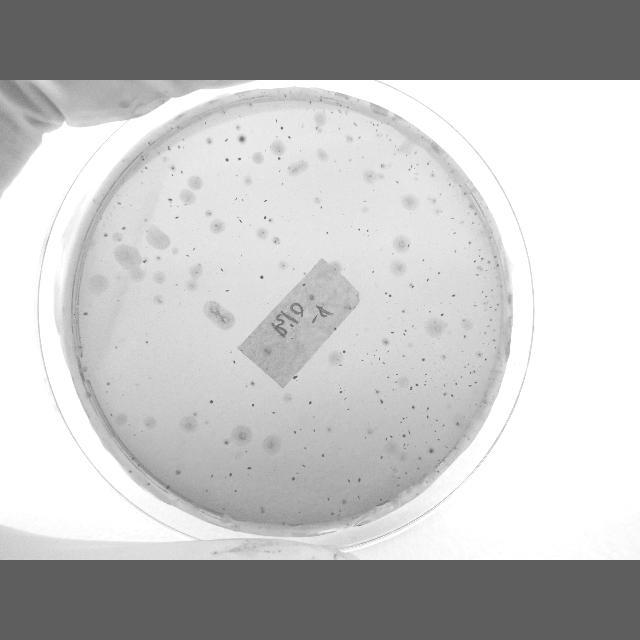colony: (237, 134, 247, 144), (174, 468, 182, 476), (339, 498, 346, 504), (430, 172, 436, 178), (428, 448, 434, 454), (250, 380, 256, 386), (166, 198, 174, 202), (104, 232, 108, 238), (192, 246, 196, 252), (380, 163, 384, 169), (448, 182, 452, 188), (472, 304, 478, 308), (442, 382, 446, 388), (378, 356, 382, 362), (382, 360, 386, 366), (402, 308, 406, 314), (343, 396, 347, 402), (308, 400, 312, 406), (292, 375, 298, 379), (347, 478, 351, 484), (357, 477, 361, 483), (330, 510, 334, 516), (338, 108, 342, 114), (274, 118, 278, 124), (236, 125, 240, 131), (260, 274, 264, 280), (83, 312, 89, 316), (110, 411, 114, 417), (224, 440, 230, 444), (166, 484, 170, 490), (131, 456, 135, 462), (282, 520, 286, 526), (193, 411, 197, 417), (414, 172, 420, 175), (450, 217, 456, 220), (356, 494, 359, 500), (326, 496, 329, 502), (396, 476, 402, 479), (246, 466, 252, 469), (144, 166, 148, 170), (180, 170, 184, 174), (122, 226, 126, 230), (144, 258, 148, 262), (142, 260, 146, 264), (156, 256, 160, 260), (268, 218, 272, 222), (395, 180, 399, 184), (414, 151, 418, 155), (474, 212, 478, 216), (468, 241, 472, 245), (451, 294, 455, 298), (388, 293, 392, 297), (384, 291, 388, 295), (481, 290, 485, 294), (484, 294, 488, 298), (489, 318, 493, 322), (492, 328, 496, 332), (492, 338, 496, 342), (463, 334, 467, 338), (484, 357, 488, 361), (472, 369, 476, 373), (468, 384, 472, 388), (454, 382, 458, 386), (450, 394, 454, 398), (442, 392, 446, 396), (421, 357, 425, 361), (415, 383, 419, 387), (402, 354, 406, 358), (402, 332, 406, 336), (404, 328, 408, 332), (374, 348, 378, 352), (342, 349, 346, 353), (251, 403, 255, 407), (302, 464, 306, 468), (291, 476, 295, 480), (380, 456, 384, 460), (396, 484, 400, 488), (384, 437, 388, 441), (389, 435, 393, 439), (402, 434, 406, 438), (402, 416, 406, 420), (402, 443, 406, 447), (418, 456, 422, 460), (442, 424, 446, 428), (456, 422, 460, 426), (442, 354, 446, 358), (461, 318, 465, 322), (494, 308, 498, 312), (508, 316, 512, 320), (508, 323, 512, 327), (484, 268, 488, 272), (487, 260, 491, 264), (388, 138, 392, 142), (345, 96, 349, 100), (315, 126, 319, 130), (308, 100, 312, 104), (280, 126, 284, 130), (292, 169, 296, 173), (238, 157, 242, 161), (225, 158, 229, 162), (224, 138, 228, 142), (176, 125, 180, 129), (144, 218, 148, 222), (175, 283, 179, 287), (220, 268, 224, 272), (145, 340, 149, 344), (114, 345, 118, 349), (106, 382, 110, 386), (110, 376, 114, 380), (132, 433, 136, 437), (146, 422, 150, 426), (140, 429, 144, 433), (209, 400, 213, 404), (229, 472, 233, 476), (147, 482, 151, 486), (137, 463, 141, 467), (128, 470, 132, 474), (222, 507, 226, 511), (205, 488, 209, 492), (302, 283, 306, 287), (245, 384, 249, 388), (174, 216, 180, 218), (186, 255, 190, 258), (235, 197, 238, 201), (240, 218, 242, 224), (264, 214, 266, 220), (362, 200, 368, 202), (458, 185, 462, 188), (454, 248, 456, 254), (426, 278, 429, 282), (491, 288, 494, 292), (412, 404, 414, 410), (371, 362, 374, 366), (361, 358, 364, 362), (338, 364, 344, 366), (339, 391, 343, 394), (313, 428, 315, 434), (364, 436, 368, 439), (380, 401, 384, 404), (426, 406, 429, 410), (426, 415, 429, 419), (486, 342, 489, 346), (496, 263, 499, 267), (474, 274, 480, 276), (481, 256, 484, 260), (408, 125, 412, 128), (356, 98, 359, 102), (331, 110, 334, 114), (222, 111, 225, 115), (250, 101, 252, 107), (116, 202, 122, 204), (195, 270, 198, 274), (224, 290, 230, 292), (210, 474, 213, 478), (235, 489, 238, 493), (426, 162, 429, 165), (416, 466, 419, 469), (346, 105, 349, 108), (105, 391, 108, 394), (148, 141, 150, 145), (172, 166, 174, 170), (178, 145, 180, 149), (182, 138, 184, 142), (170, 126, 172, 130), (172, 126, 174, 130), (205, 121, 207, 125), (182, 146, 184, 150), (184, 204, 188, 206), (242, 198, 244, 202), (263, 200, 267, 202), (262, 231, 264, 235), (320, 205, 322, 209), (408, 168, 410, 172), (410, 164, 412, 168), (414, 166, 416, 170), (432, 169, 434, 173), (406, 153, 408, 157), (394, 152, 396, 156), (395, 144, 397, 148), (373, 189, 375, 193), (451, 169, 453, 173), (468, 211, 470, 215), (452, 232, 456, 234), (479, 248, 481, 252), (408, 244, 410, 248), (422, 258, 424, 262), (412, 285, 414, 289), (410, 282, 412, 286), (372, 270, 374, 274), (428, 311, 432, 313), (440, 314, 444, 316), (440, 301, 442, 305), (472, 302, 476, 304), (484, 331, 486, 335), (478, 353, 480, 357), (467, 362, 469, 366), (463, 366, 467, 368), (474, 380, 476, 384), (424, 373, 428, 375), (424, 380, 428, 382), (424, 383, 426, 387), (390, 332, 394, 334), (412, 324, 414, 328), (386, 350, 390, 352), (367, 352, 369, 356), (334, 327, 336, 331), (296, 378, 298, 382), (272, 412, 276, 414), (294, 430, 296, 434), (300, 428, 302, 432), (322, 454, 324, 458), (296, 472, 300, 474), (339, 509, 341, 513), (380, 498, 382, 502), (404, 472, 408, 474), (399, 432, 401, 436), (380, 398, 382, 402), (392, 388, 394, 392), (394, 381, 398, 383), (423, 422, 425, 426), (408, 430, 410, 434), (444, 446, 448, 448), (436, 418, 438, 422), (469, 404, 471, 408), (508, 298, 510, 302), (483, 308, 485, 312), (500, 284, 502, 288), (494, 266, 496, 270), (474, 259, 476, 263), (493, 256, 497, 258), (418, 128, 420, 132), (376, 128, 378, 132), (370, 120, 372, 124), (372, 122, 374, 126), (394, 127, 396, 131), (354, 124, 358, 126), (338, 127, 340, 131), (340, 104, 342, 108), (320, 98, 322, 102), (334, 92, 336, 96), (336, 102, 338, 106), (346, 112, 348, 116), (284, 94, 286, 98), (288, 135, 290, 139), (278, 157, 280, 161), (278, 169, 280, 173), (288, 166, 290, 170), (158, 152, 160, 156), (73, 314, 77, 316), (78, 346, 82, 348), (128, 424, 132, 426), (234, 360, 236, 364), (230, 350, 232, 354), (215, 224, 218, 226), (367, 235, 369, 238), (369, 175, 371, 178), (447, 162, 449, 165), (464, 192, 466, 195), (470, 205, 472, 208), (496, 303, 499, 305), (494, 346, 496, 349), (339, 386, 341, 389), (346, 408, 349, 410), (304, 446, 306, 449), (400, 421, 402, 424), (376, 391, 378, 394), (386, 376, 389, 378), (411, 367, 414, 369), (498, 356, 500, 359), (478, 255, 480, 258), (491, 230, 493, 233), (481, 230, 483, 233), (478, 222, 480, 225), (376, 124, 379, 126), (380, 122, 382, 125), (302, 125, 304, 128), (320, 95, 322, 98), (282, 182, 284, 185), (245, 450, 248, 452), (298, 511, 300, 514), (150, 140, 152, 142), (142, 158, 144, 160), (172, 174, 174, 176), (168, 146, 170, 148), (168, 148, 170, 150), (275, 240, 277, 242), (326, 232, 328, 234), (358, 228, 360, 230), (366, 230, 368, 232), (351, 225, 353, 227), (416, 164, 418, 166), (429, 160, 431, 162), (425, 160, 427, 162), (472, 222, 474, 224), (489, 236, 491, 238), (438, 272, 440, 274), (490, 306, 492, 308), (486, 325, 488, 327), (482, 343, 484, 345), (470, 372, 472, 374), (460, 376, 462, 378), (430, 378, 432, 380), (410, 386, 412, 388), (410, 388, 412, 390), (374, 354, 376, 356), (338, 514, 340, 516), (388, 456, 390, 458), (404, 447, 406, 449), (375, 427, 377, 429), (405, 416, 407, 418), (395, 388, 397, 390), (396, 373, 398, 375), (407, 444, 409, 446), (414, 445, 416, 447), (425, 442, 427, 444), (438, 460, 440, 462), (438, 438, 440, 440), (434, 430, 436, 432), (431, 424, 433, 426), (463, 434, 465, 436), (468, 438, 470, 440), (475, 404, 477, 406), (468, 416, 470, 418), (463, 416, 465, 418), (490, 370, 492, 372), (488, 378, 490, 380), (498, 352, 500, 354), (483, 302, 485, 304), (480, 259, 482, 261), (475, 238, 477, 240), (440, 193, 442, 195), (421, 136, 423, 138), (359, 136, 361, 138), (354, 122, 356, 124), (340, 116, 342, 118), (276, 136, 278, 138), (265, 150, 267, 152), (488, 325, 489, 327), (486, 308, 486, 312)
